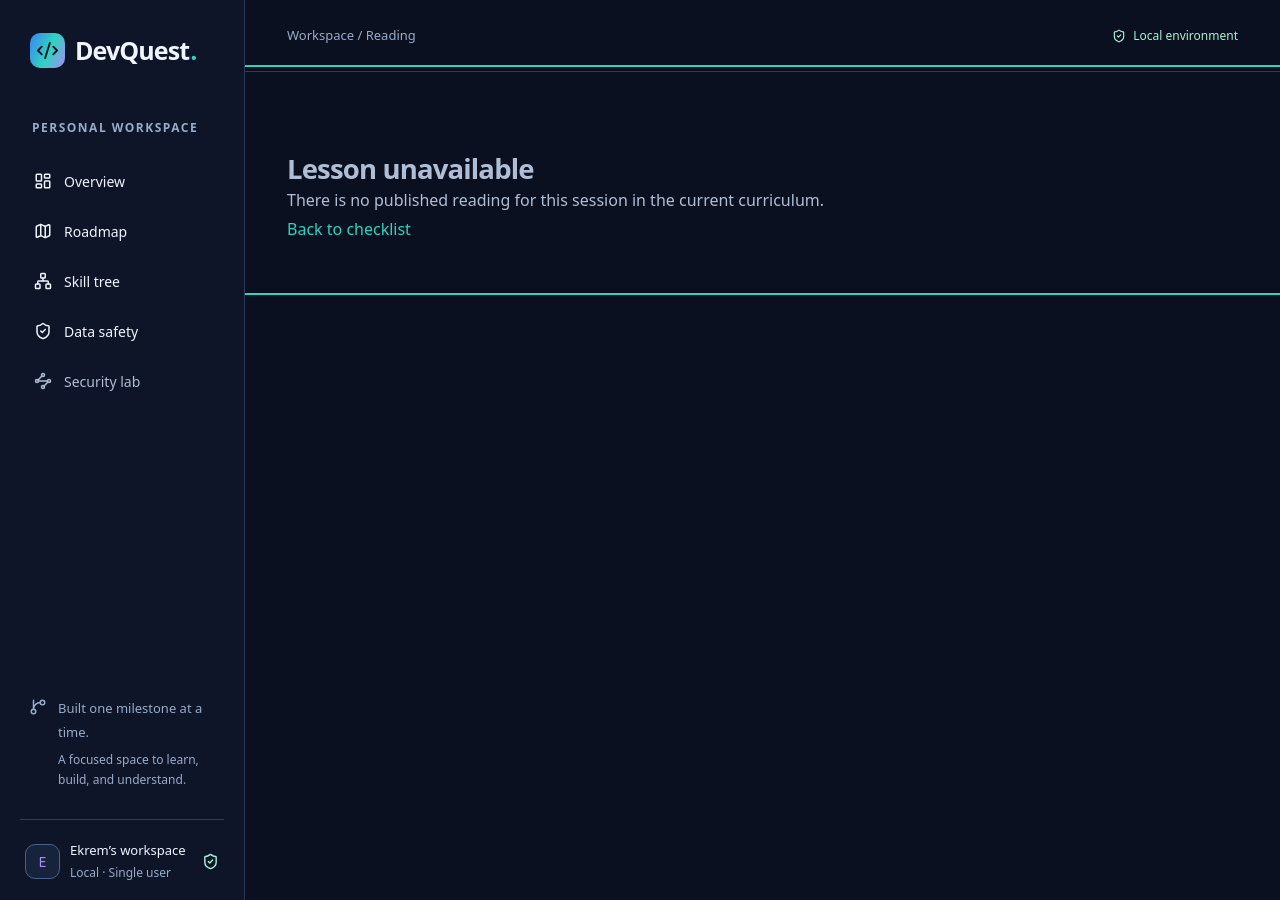
Test: interactive roadmap › keeps the checklist usable when reading is unavailable
Expected: the heading "Lesson unavailable" is shown, 287,150 -> 534,187
Click the link "Back to checklist" at (349, 229), box 287,218 -> 411,240
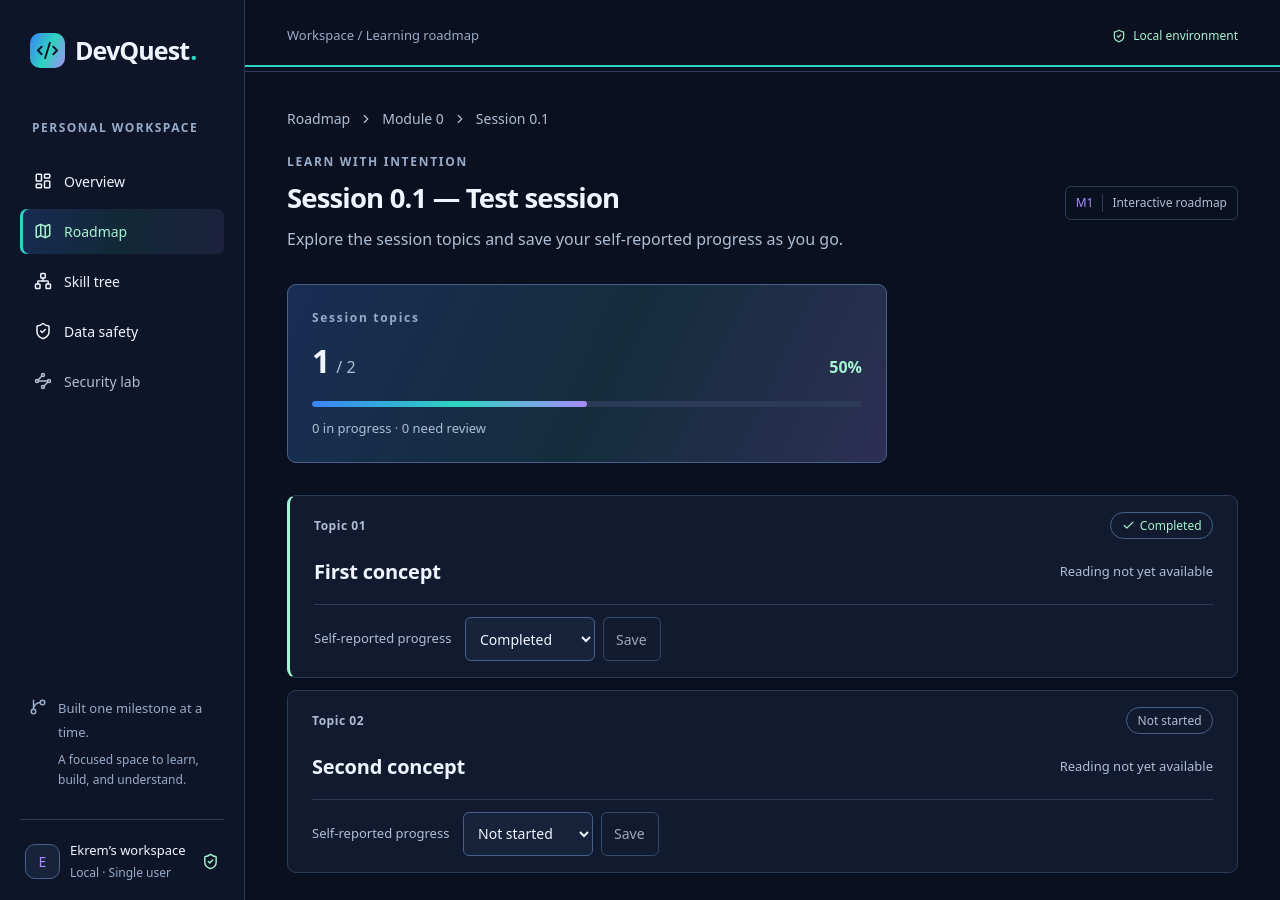
Result: the link "Second concept" is shown at 312,744 -> 465,788
Result: the text "Reading not yet available" is shown 2 times at 1060,562 -> 1213,582; 1060,757 -> 1213,776
Result: the dropdown named "Status for Second concept" is enabled at 463,812 -> 593,856
